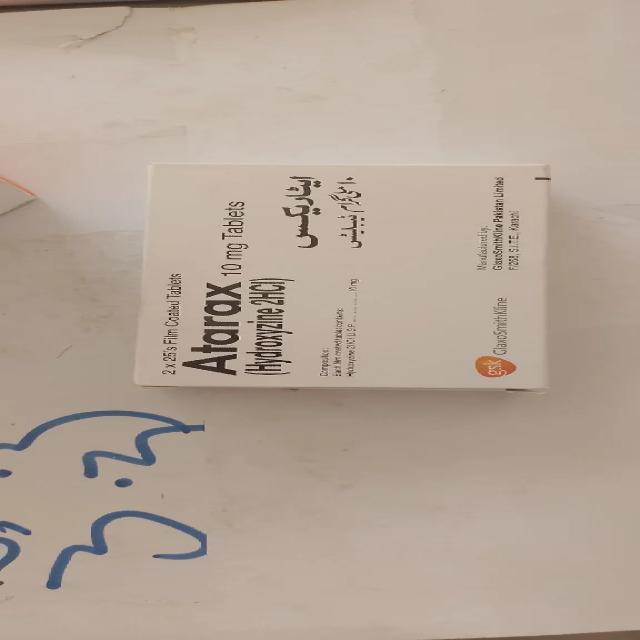drug-name: (182, 278, 242, 378)
